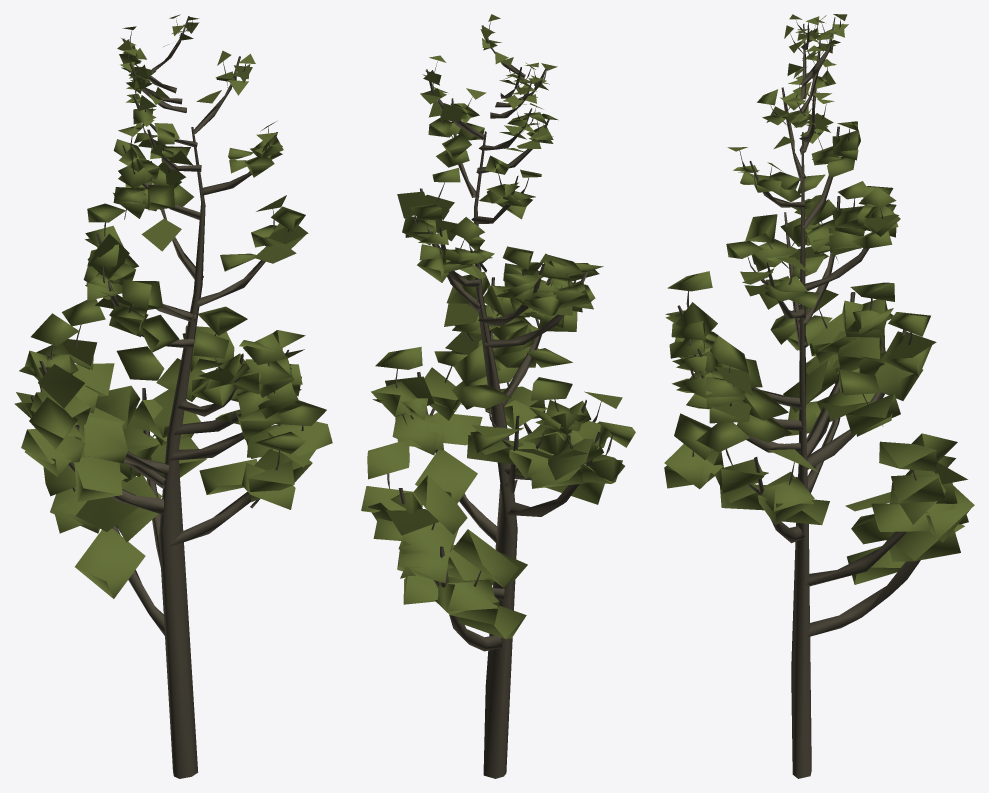
File: Tree_BlackWillow_004.fbx
3 views of the same model, side by side, from view 1: azimuth 30°, elevation 25°; view 2: azimuth 150°, elevation 25°; view 3: azimuth 270°, elevation 25° (orthographic).
Parts seen in each view (by area): view 1: Tree_BlackWillow.004; view 2: Tree_BlackWillow.004; view 3: Tree_BlackWillow.004.
Boxes of the visible parts, x1,y1,x2,y2 form: Tree_BlackWillow.004: [14, 14, 332, 778]; Tree_BlackWillow.004: [361, 14, 635, 778]; Tree_BlackWillow.004: [664, 14, 974, 778].
Size of the model in its own units: 1127 by 3108 by 1154.
